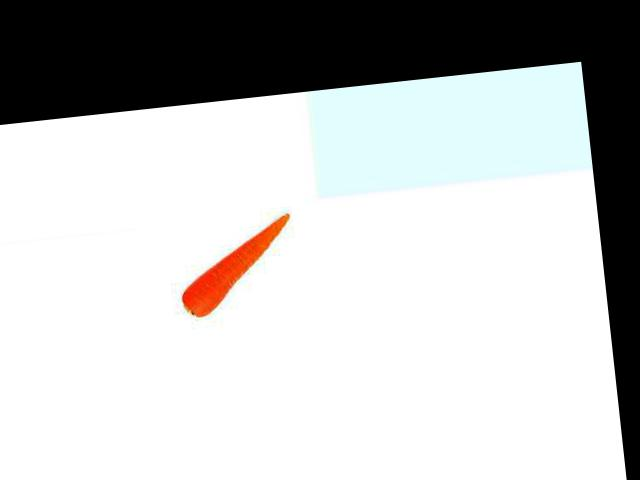carrot: (169, 211, 300, 320)
